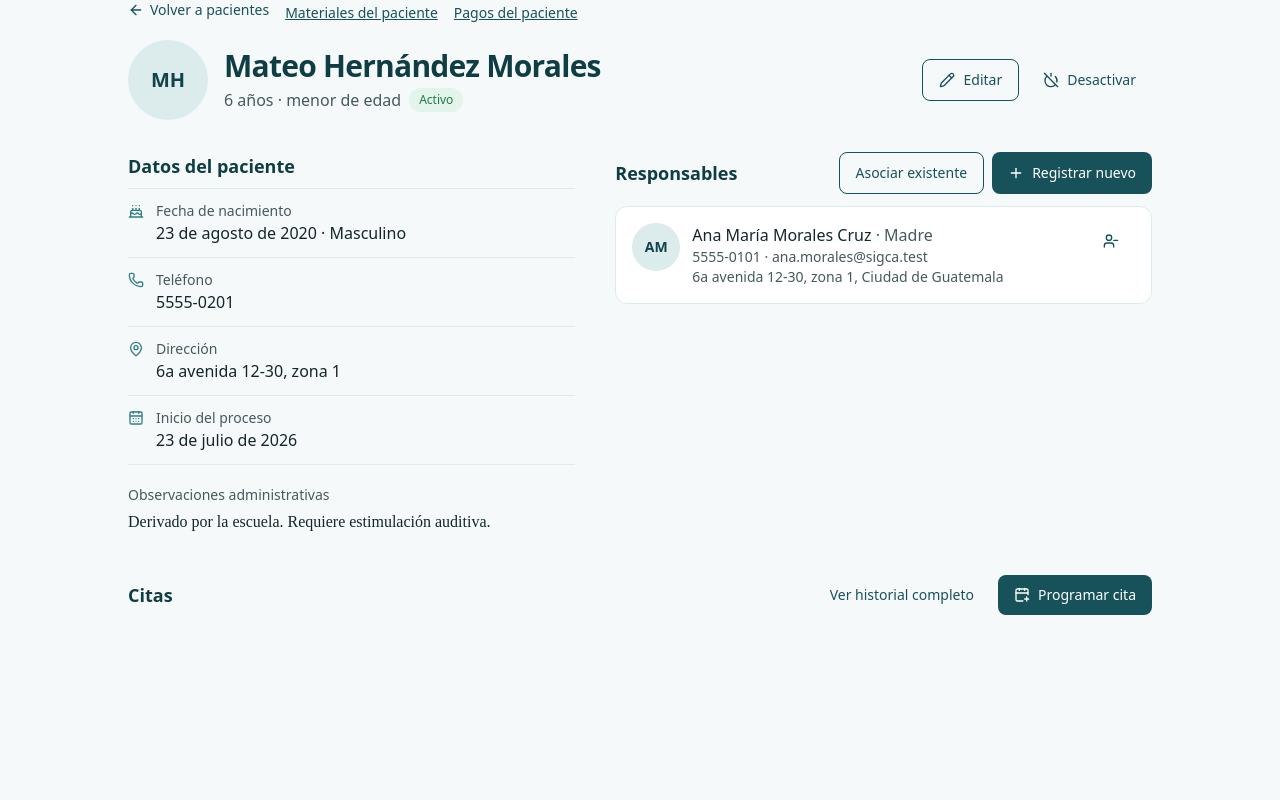
it: Ficha del paciente › si no hay coincidencias ofrece registrar un responsable nuevo
Click the button "Asociar existente" at (911, 173), box [838, 152, 984, 194]
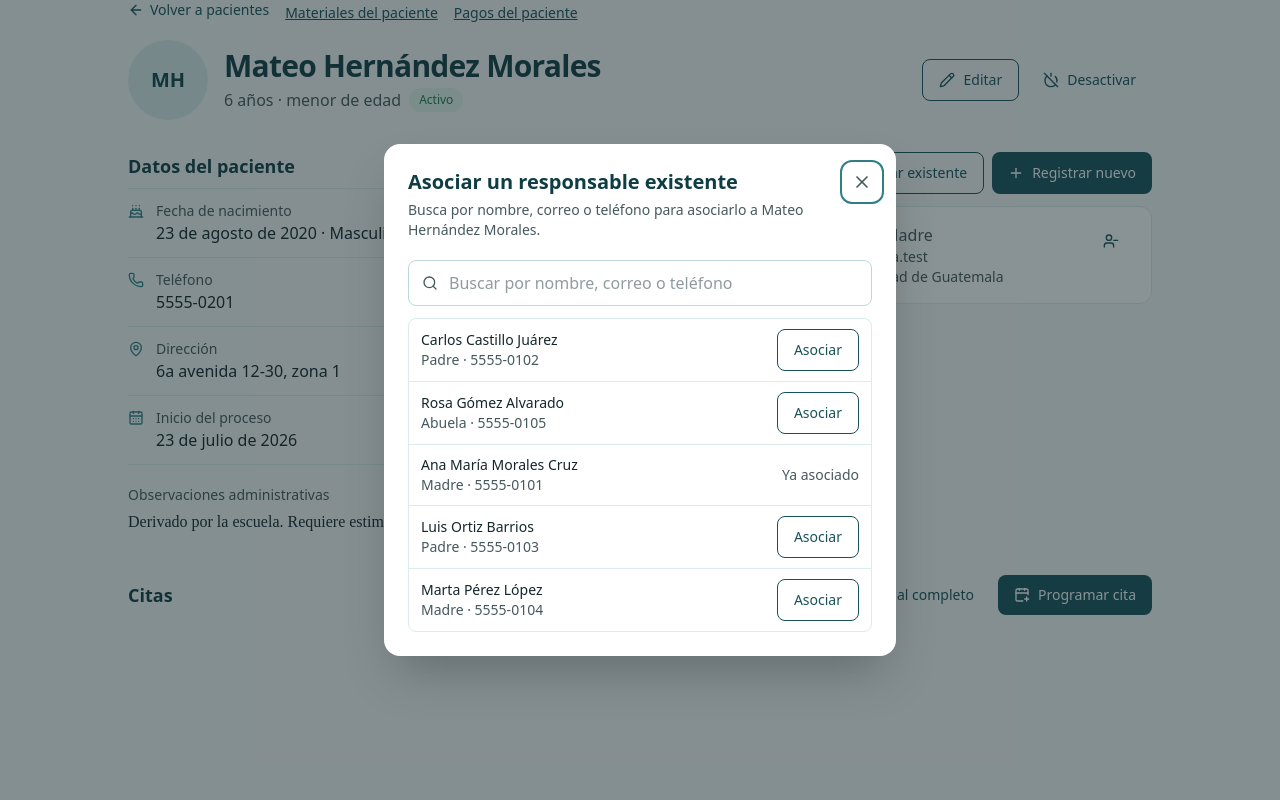
Type "zzzz" into the search field named "Buscar responsable" at (640, 283), box [408, 260, 872, 306]
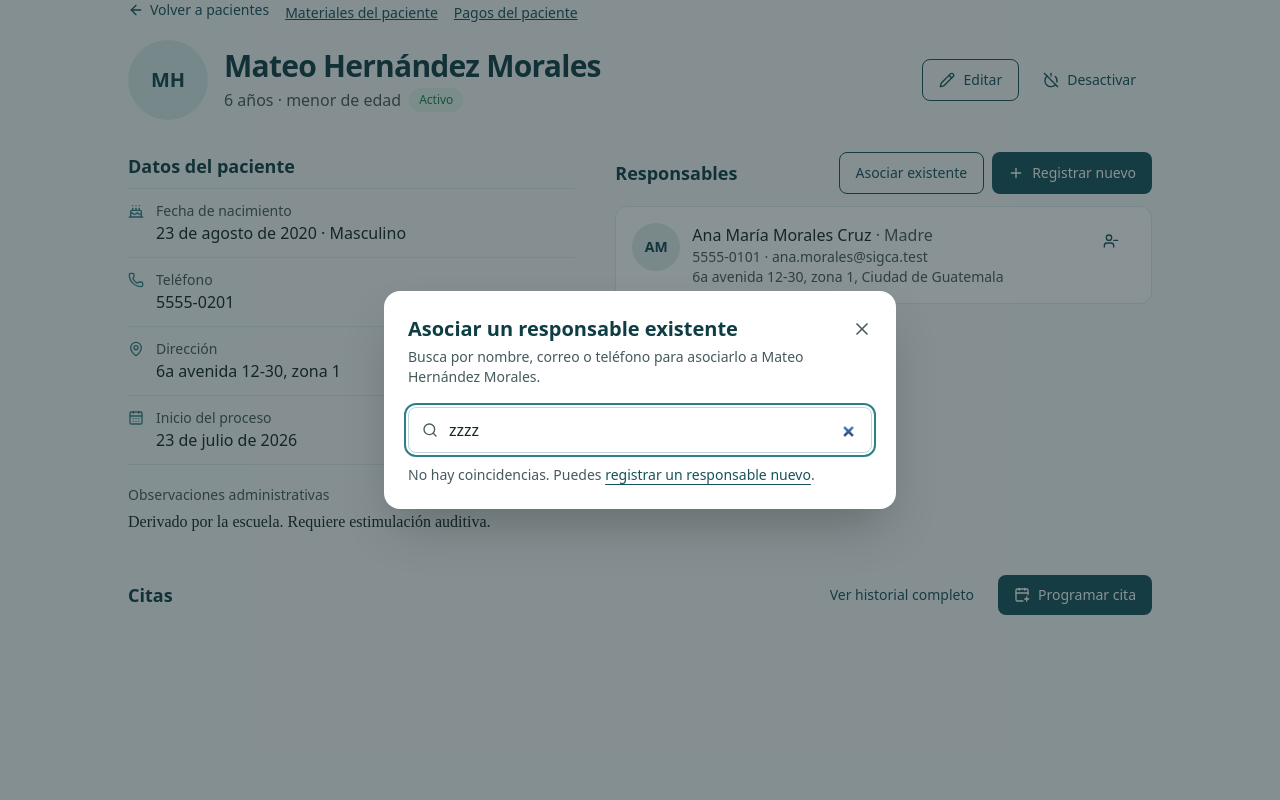
Now the text "No hay coincidencias" is shown, box [408, 465, 605, 484]
Click the button "registrar un responsable nuevo" at (708, 475), box [605, 465, 811, 485]
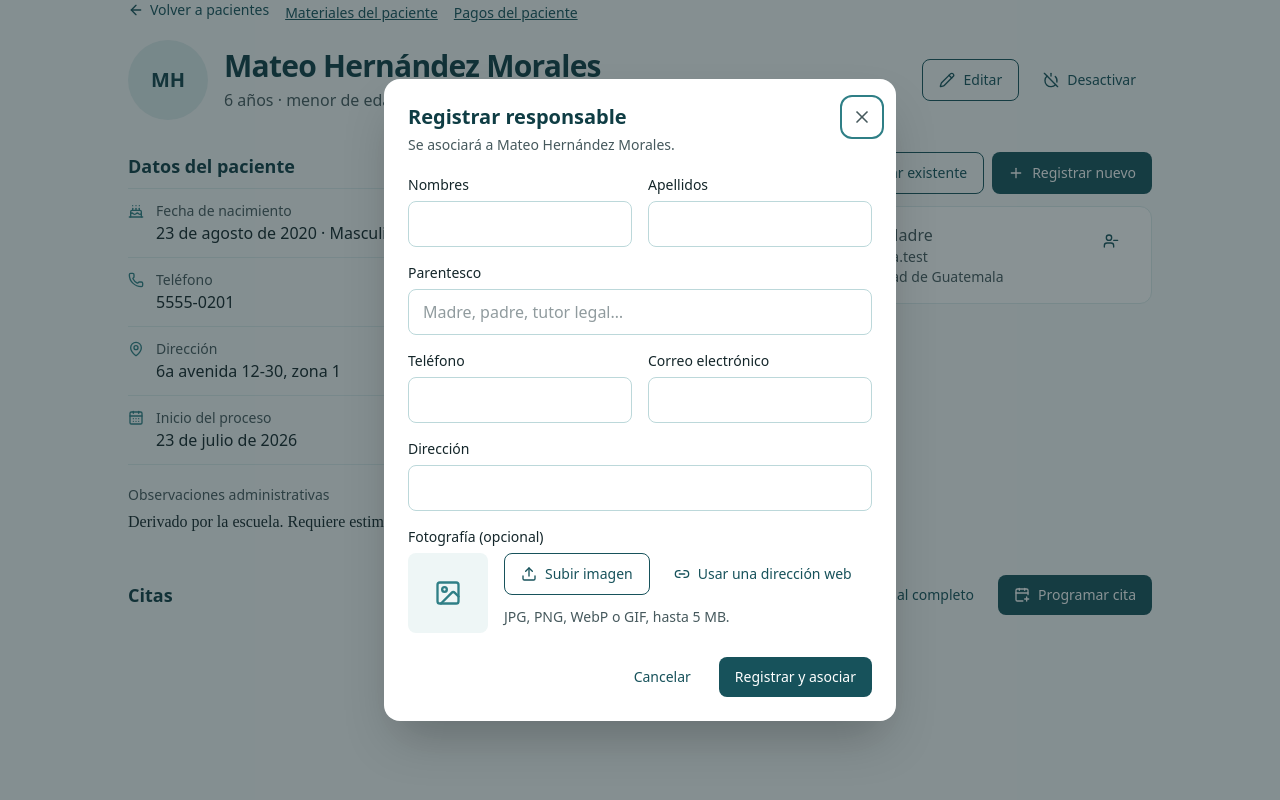
Now the dialog "Registrar responsable" is shown, box [384, 79, 896, 721]
